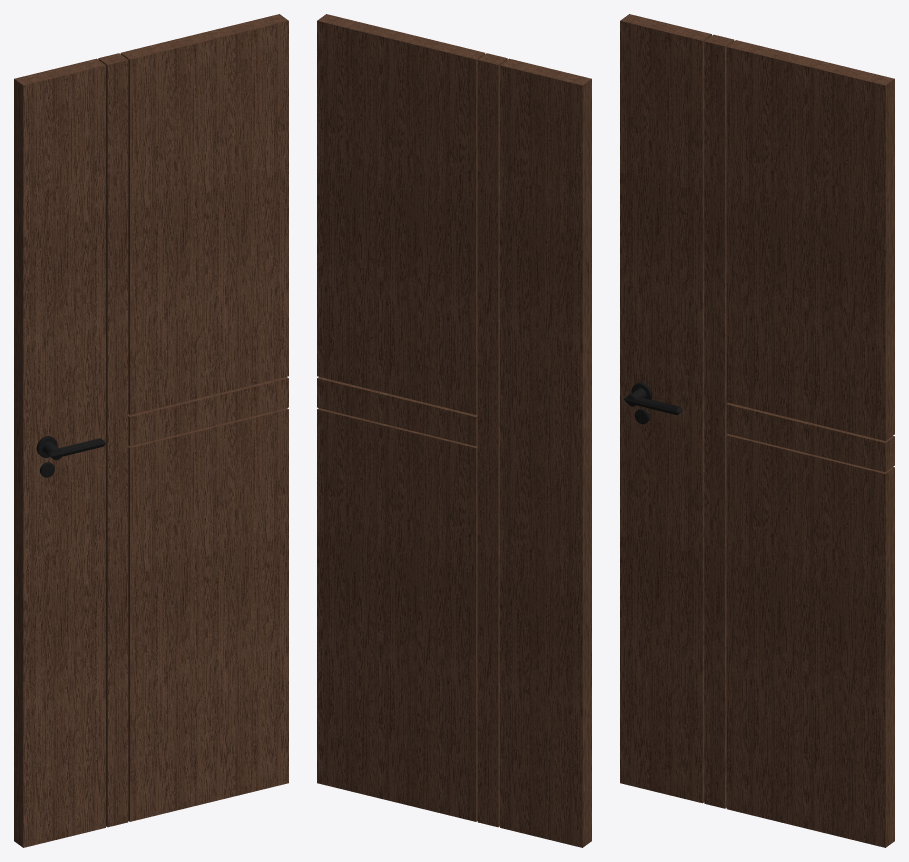
Rendered from interior door.fbx.
3 views of the same model, side by side, from view 1: azimuth 30°, elevation 25°; view 2: azimuth 150°, elevation 25°; view 3: azimuth 330°, elevation 25° (orthographic).
Parts seen in each view (by area): view 1: interior door; view 2: interior door; view 3: interior door.
Part boxes in pixels (x1,y1,x2,y2): interior door: [14, 14, 288, 847]; interior door: [317, 14, 591, 847]; interior door: [620, 14, 894, 847].
Size of the model in its own units: 27.12 by 74.39 by 3.78.
Materials: 2 (1 with a texture image).
